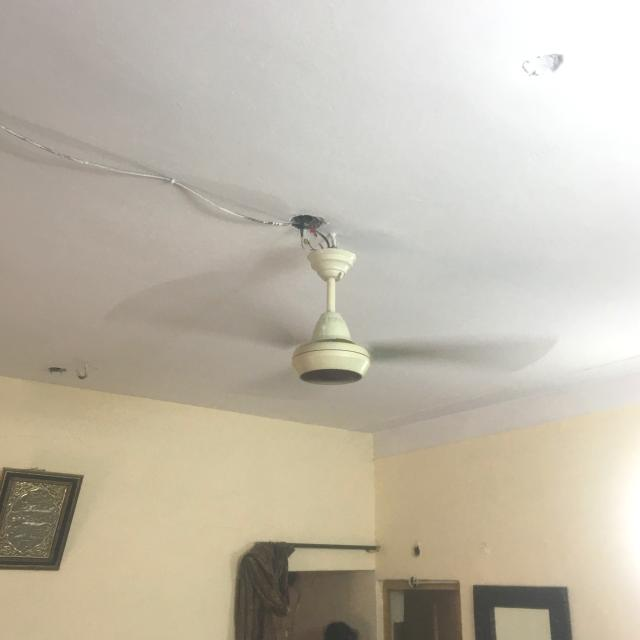on: (100, 244, 569, 413)
